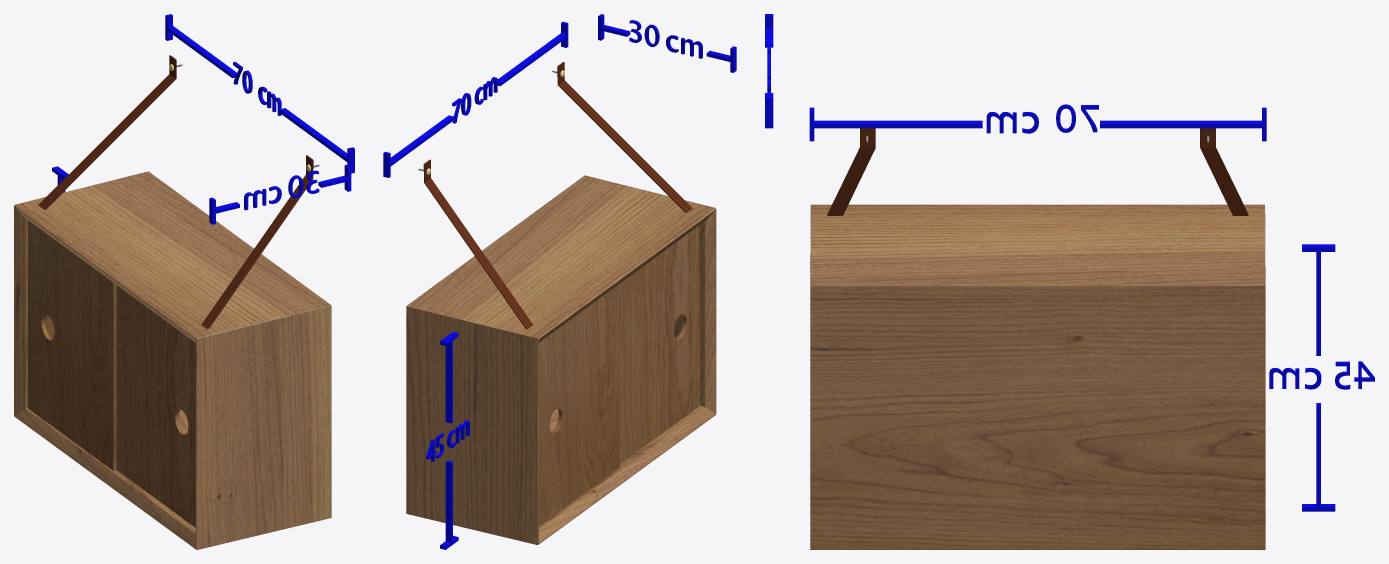
The model's file is wall_storage_large.glb.
The picture shows the model from 3 angles, left to right: view 1: azimuth 30°, elevation 25°; view 2: azimuth 150°, elevation 25°; view 3: azimuth 270°, elevation 25°; orthographic projection. The views are drawn at different scales.
Parts seen in each view (by area): view 1: Wood, Dimension1, Stripes; view 2: Wood, Dimension1, Stripes; view 3: Wood, Dimension1, Stripes.
Boxes of the visible parts, x1,y1,x2,y2 form: Wood: [14, 171, 331, 549]; Dimension1: [52, 14, 354, 224]; Stripes: [38, 55, 319, 329]; Wood: [406, 175, 716, 544]; Dimension1: [383, 14, 736, 549]; Stripes: [418, 62, 692, 329]; Wood: [810, 204, 1265, 549]; Dimension1: [765, 14, 1374, 511]; Stripes: [827, 128, 1248, 215].
Size of the model in its own units: 35.21 by 77.11 by 93.4.
3 materials, 2 textured.
